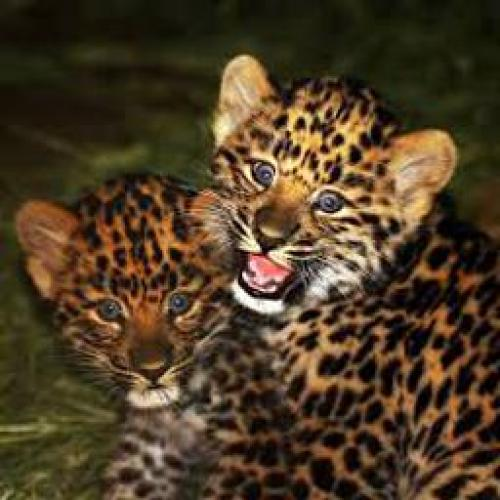amur_leopard-endangered: (206, 52, 500, 500), (14, 172, 289, 500)
